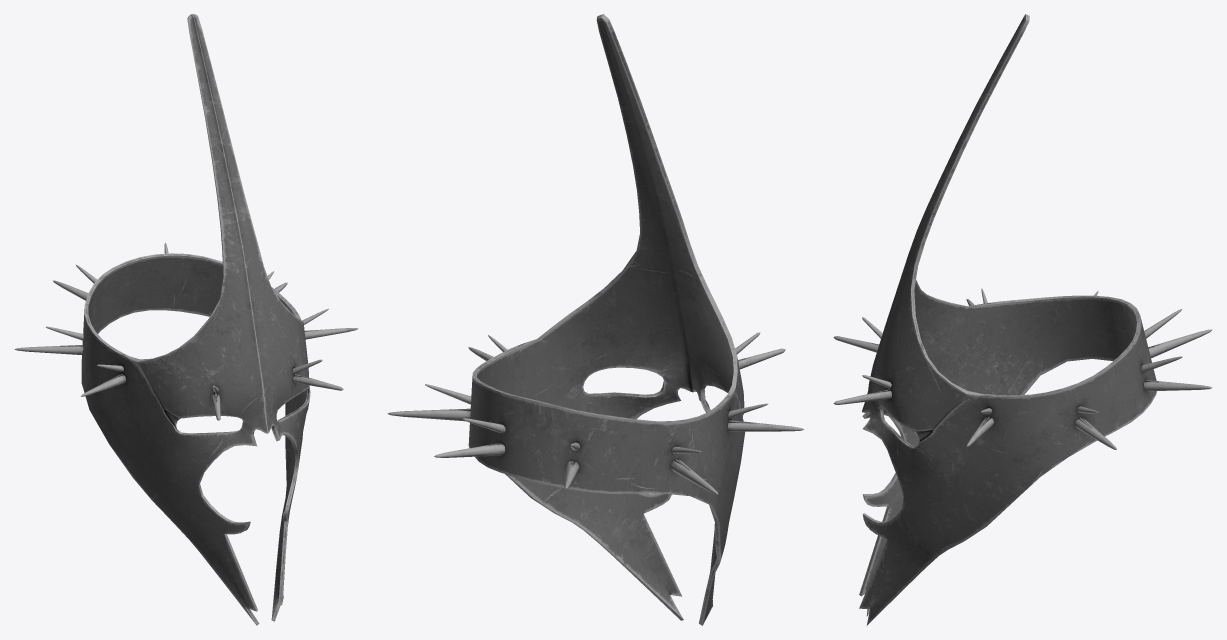
3 renders of one model, left to right at view 1: azimuth 30°, elevation 25°; view 2: azimuth 150°, elevation 25°; view 3: azimuth 270°, elevation 25°, orthographic. The views are drawn at different scales.
Visible parts, largest first — view 1: Angmar, Spikes_low; view 2: Angmar, Spikes_low; view 3: Angmar, Spikes_low.
Boxes of the visible parts, x1,y1,x2,y2 form: Angmar: (81,14,310,625); Spikes_low: (14,243,358,420); Angmar: (468,14,745,625); Spikes_low: (387,332,804,494); Angmar: (859,14,1156,625); Spikes_low: (833,288,1212,449).
Size of the model in its own units: 1.05 by 2 by 1.13.
Materials: 1 (1 with a texture image).
